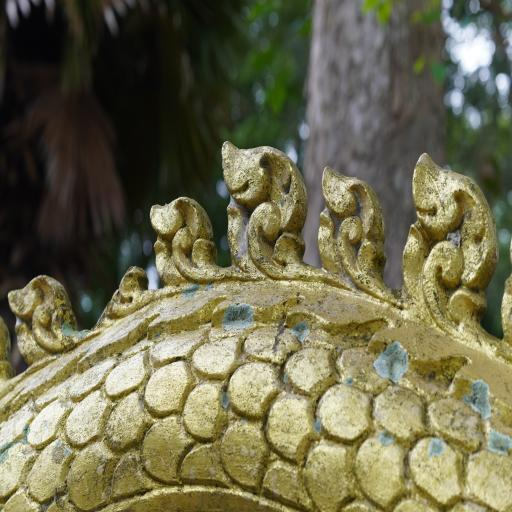la: (389, 141, 497, 350), (220, 131, 322, 277), (317, 169, 390, 315), (4, 260, 87, 388), (128, 190, 218, 306)
